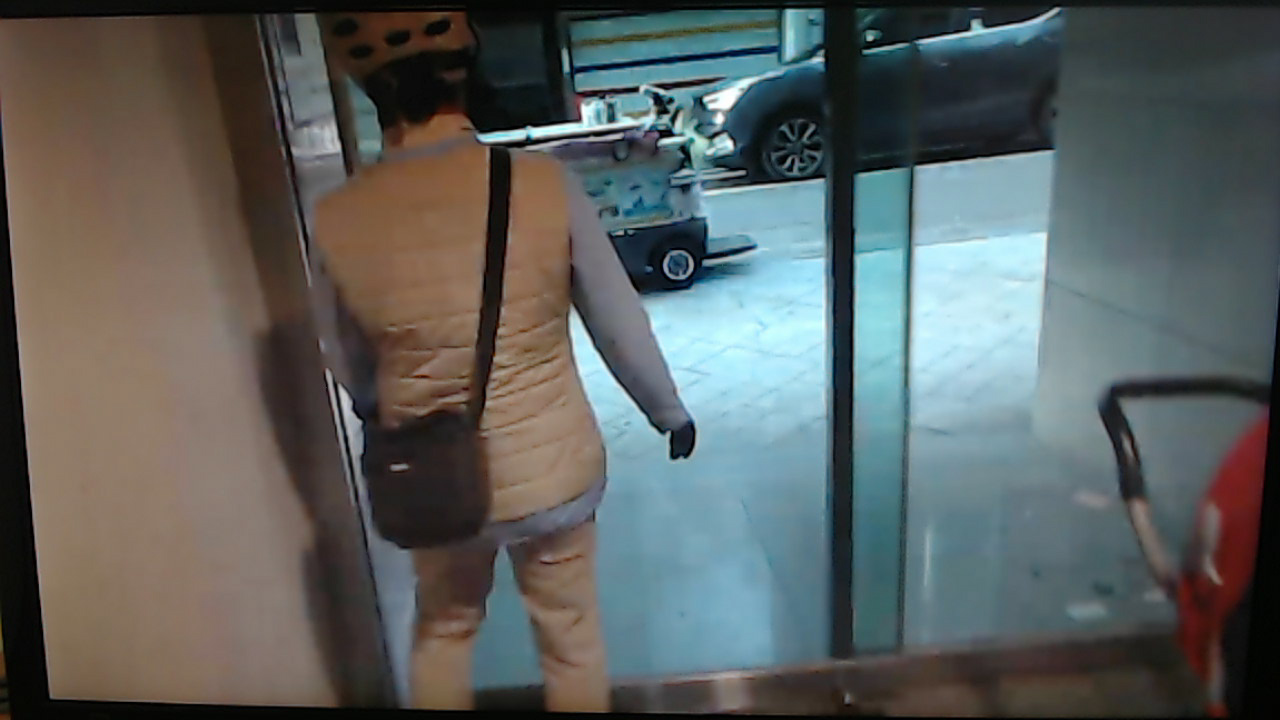Yakurut: (285, 16, 705, 713)
